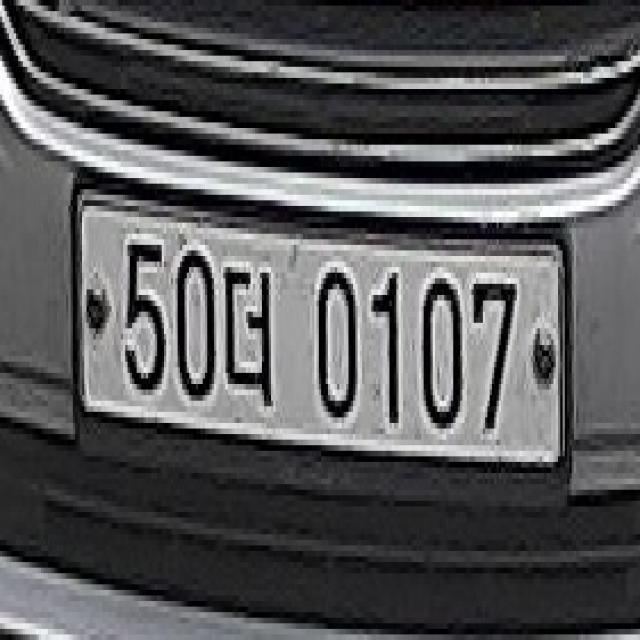0: (417, 268, 467, 446), (314, 251, 361, 424), (175, 240, 218, 415)
1: (370, 261, 404, 440)
5: (120, 231, 167, 397)
7: (472, 266, 524, 442)
deo: (224, 250, 280, 424)
license_plate: (72, 204, 574, 486)
